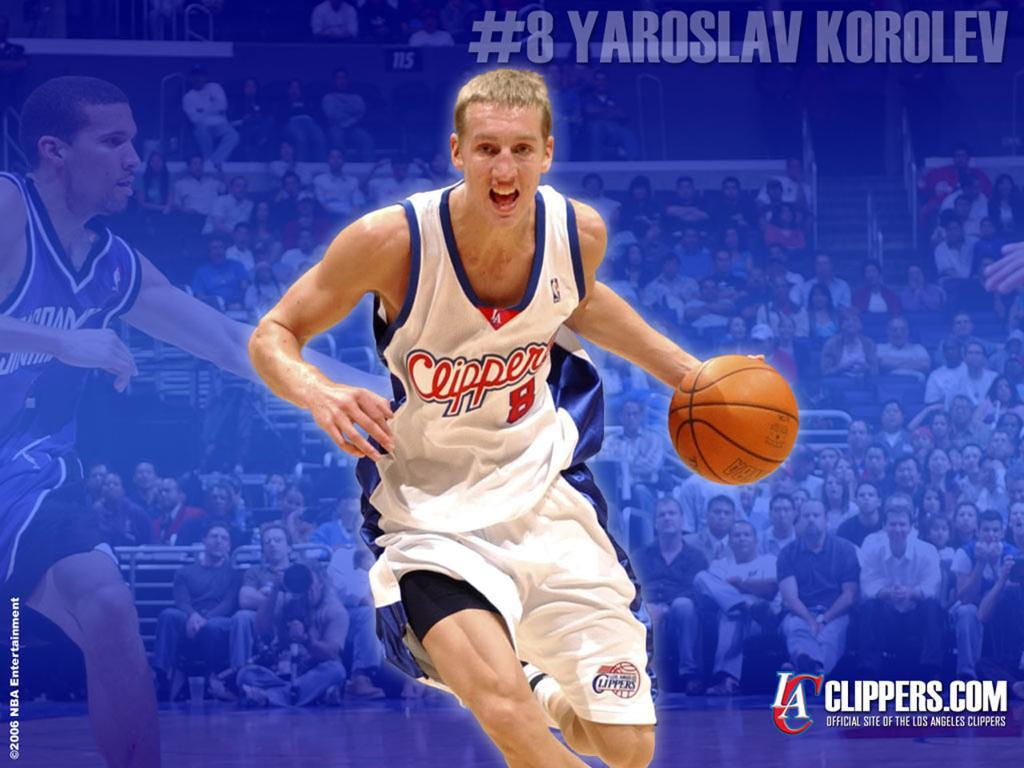face: (462, 111, 544, 229), (66, 116, 140, 212), (297, 572, 321, 605), (731, 526, 756, 556), (657, 503, 681, 534), (801, 507, 826, 536), (887, 516, 911, 544), (710, 504, 733, 533), (263, 532, 286, 560), (772, 502, 794, 531), (207, 529, 229, 557), (981, 523, 1002, 550), (897, 461, 918, 488), (957, 507, 977, 532), (857, 488, 877, 513), (210, 489, 230, 514), (887, 320, 907, 345), (623, 406, 642, 431), (883, 405, 903, 428), (930, 522, 949, 546), (773, 471, 792, 495), (866, 450, 884, 475), (341, 491, 362, 512), (135, 466, 154, 489), (159, 484, 177, 508), (1009, 478, 1024, 506), (930, 453, 949, 475), (991, 434, 1010, 456), (285, 495, 303, 517), (103, 478, 121, 500), (90, 469, 108, 491), (850, 425, 867, 447), (924, 492, 940, 515), (827, 477, 843, 500), (955, 400, 970, 424), (1002, 417, 1018, 439), (822, 450, 838, 472), (683, 228, 699, 250), (1011, 507, 1024, 534), (956, 317, 973, 337), (968, 346, 984, 367), (965, 450, 980, 472), (844, 315, 861, 334), (908, 267, 924, 287), (838, 461, 853, 482), (756, 335, 772, 354), (933, 416, 948, 436), (730, 319, 745, 339), (997, 381, 1011, 402), (792, 494, 806, 515), (268, 477, 285, 494), (817, 260, 833, 278), (678, 183, 694, 201), (944, 343, 959, 362), (702, 281, 716, 301), (716, 253, 730, 273), (586, 177, 600, 197), (947, 223, 961, 243), (286, 176, 300, 196), (725, 230, 740, 248), (236, 228, 251, 246), (774, 282, 788, 301), (779, 206, 793, 225), (300, 196, 314, 215), (665, 257, 678, 277), (812, 290, 827, 307), (725, 182, 740, 199), (329, 152, 344, 169), (967, 183, 982, 199), (423, 15, 438, 31), (866, 266, 879, 284), (780, 322, 793, 340), (635, 182, 648, 200), (958, 200, 971, 218), (999, 178, 1012, 196), (394, 163, 408, 179), (281, 140, 294, 157), (771, 250, 785, 265), (770, 183, 783, 199), (1007, 364, 1020, 380), (244, 81, 257, 97), (193, 68, 206, 84), (771, 263, 783, 280), (983, 221, 995, 238), (191, 159, 203, 176), (361, 553, 373, 570), (210, 244, 224, 258), (432, 157, 446, 171), (232, 181, 245, 196), (289, 82, 302, 97), (151, 156, 163, 172), (597, 75, 609, 91), (547, 67, 559, 83), (300, 233, 311, 250), (956, 151, 969, 165), (751, 271, 763, 286), (629, 249, 641, 264), (257, 204, 269, 219), (337, 73, 349, 87), (260, 267, 271, 281)
